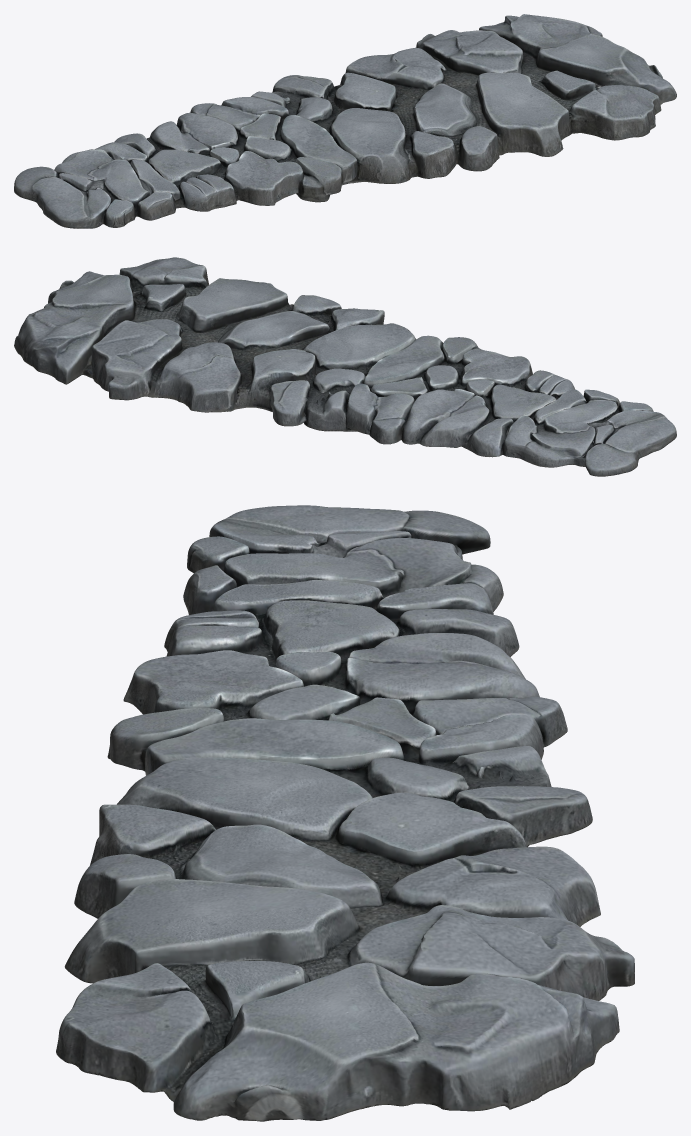
File: tripo_convert_4f3786bf-0de2-4c69-9c0c-e7d5a03910c8.fbx
3 views of the same model, one above another, from view 1: azimuth 30°, elevation 25°; view 2: azimuth 150°, elevation 25°; view 3: azimuth 270°, elevation 25° (orthographic). The views are drawn at different scales.
Visible parts, largest first — view 1: tripo_node_4f3786bf; view 2: tripo_node_4f3786bf; view 3: tripo_node_4f3786bf.
Part boxes in pixels (box(x1,y1,x2,y2)): tripo_node_4f3786bf: box(14, 14, 676, 228); tripo_node_4f3786bf: box(14, 257, 676, 476); tripo_node_4f3786bf: box(56, 505, 634, 1121).
Bounding box in the file's own units: 1 × 0.0561 × 0.4153.
1 material, 1 textured.
